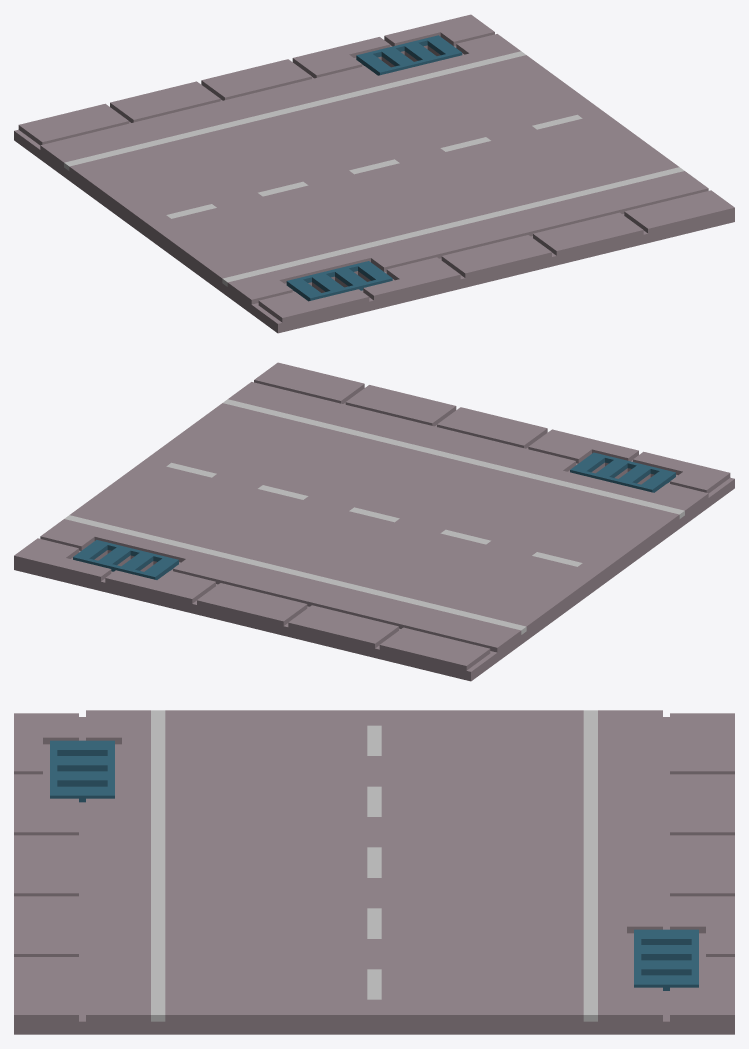
The model's file is Background_A_load_01.FBX.
3 views of the same model, one above another, from view 1: azimuth 30°, elevation 25°; view 2: azimuth 150°, elevation 25°; view 3: azimuth 270°, elevation 25° (orthographic). The views are drawn at different scales.
Visible parts, largest first — view 1: Load_A-13; view 2: Load_A-13; view 3: Load_A-13.
Part boxes in pixels (x1=…): Load_A-13: x1=14, y1=14, x2=734, y2=333; Load_A-13: x1=14, y1=362, x2=734, y2=681; Load_A-13: x1=14, y1=710, x2=734, y2=1034.
Bounding box in the file's own units: 10 × 0.3 × 10.
1 material, 1 textured.
